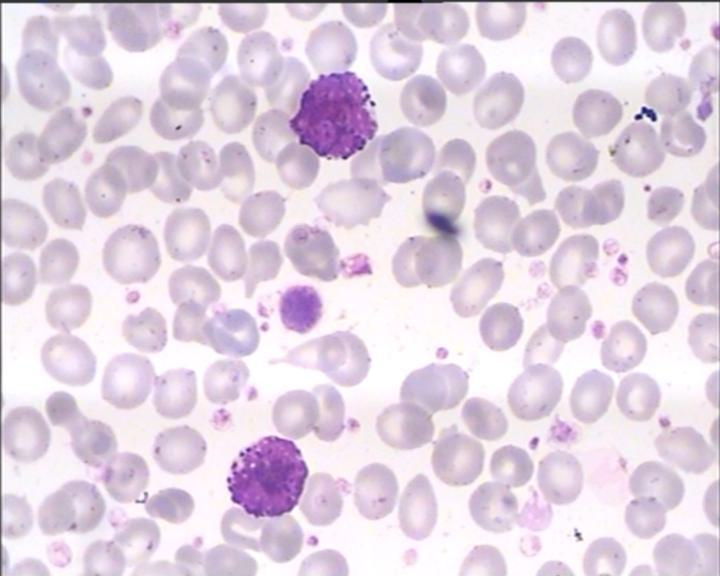baso: (286, 69, 383, 162), (221, 431, 315, 518)
